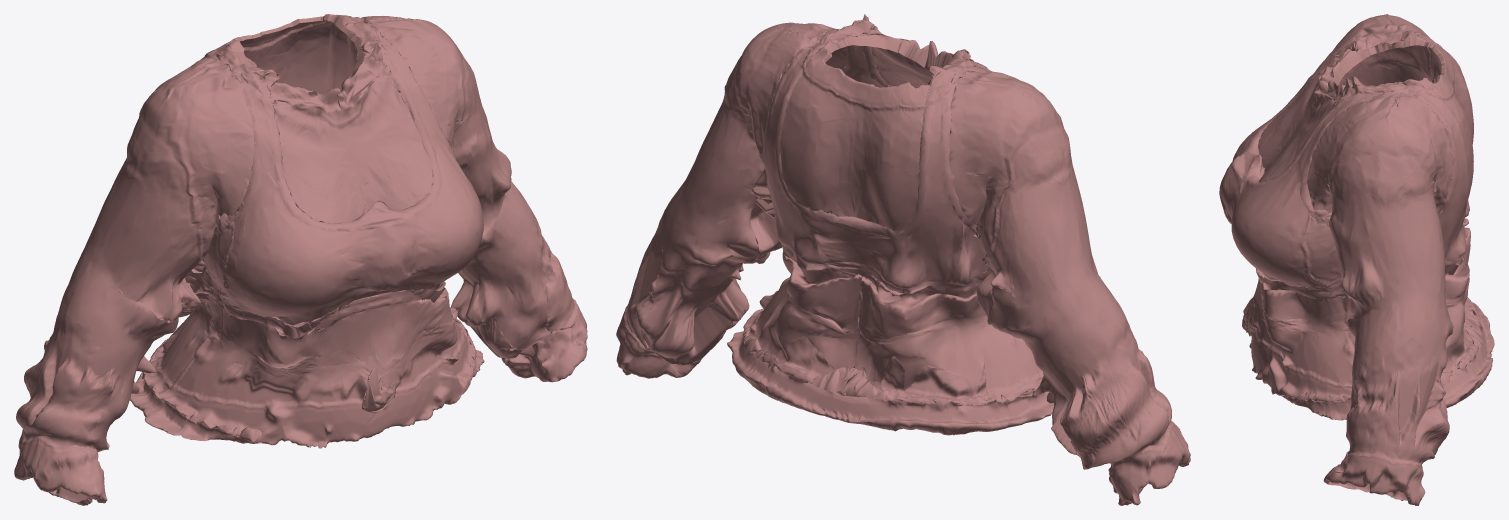
The model's file is top_f_sweater.glb.
3 views of the same model, side by side, from view 1: azimuth 30°, elevation 25°; view 2: azimuth 150°, elevation 25°; view 3: azimuth 270°, elevation 25° (orthographic). The views are drawn at different scales.
Parts seen in each view (by area): view 1: top_f_sweater; view 2: top_f_sweater; view 3: top_f_sweater.
Part boxes in pixels (x1,y1,x2,y2): top_f_sweater: (14,14,587,505); top_f_sweater: (616,14,1190,505); top_f_sweater: (1219,14,1494,505).
Size of the model in its own units: 0.8074 by 0.5574 by 0.3886.
Materials: 1 (1 with a texture image).
